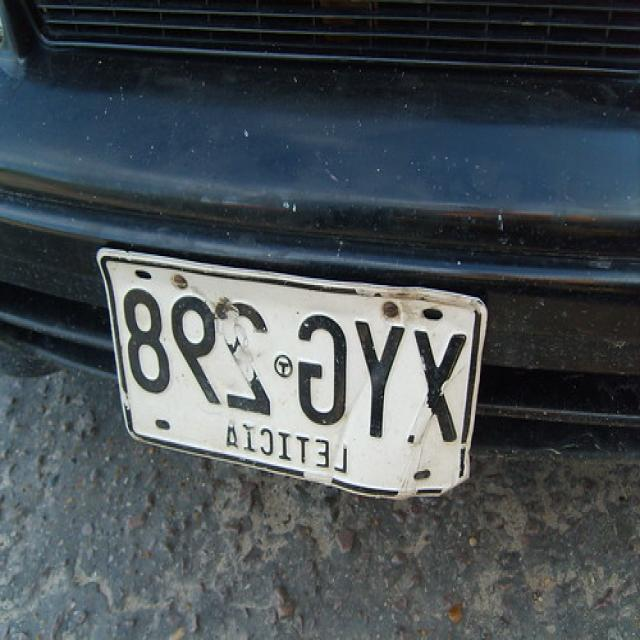placas: (107, 262, 475, 460)
